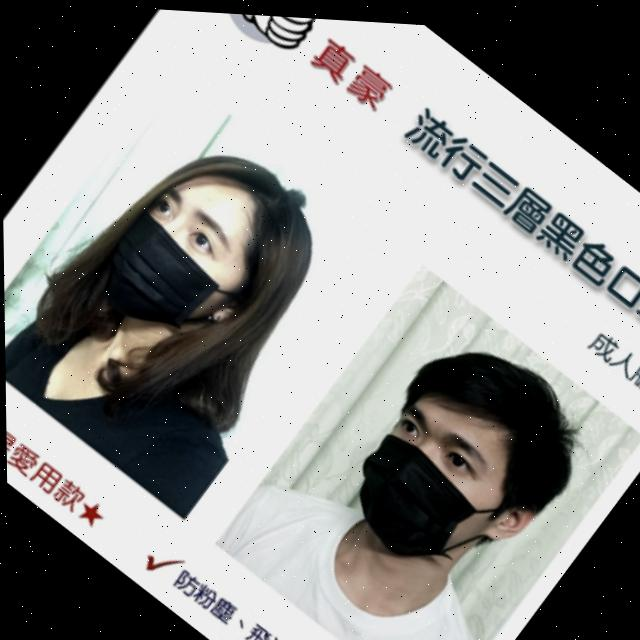Mask: (325, 397, 535, 606), (77, 197, 255, 373)
